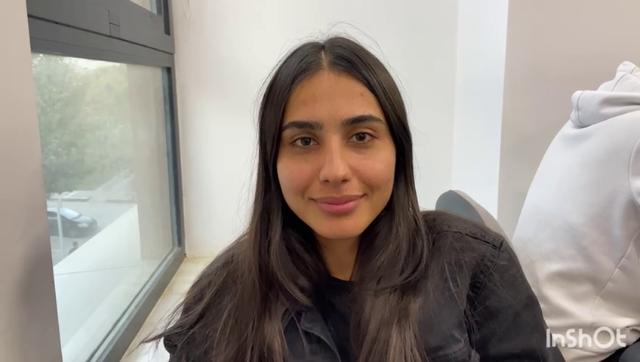senang: (274, 75, 401, 239)
